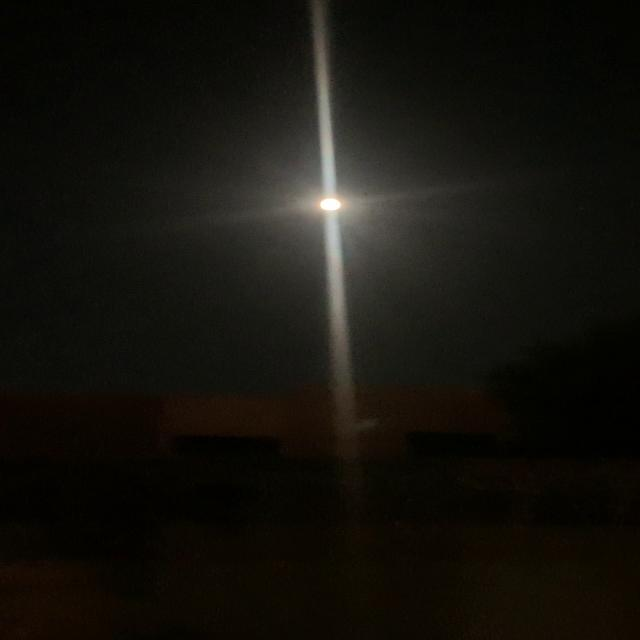moon: (299, 188, 361, 221)
